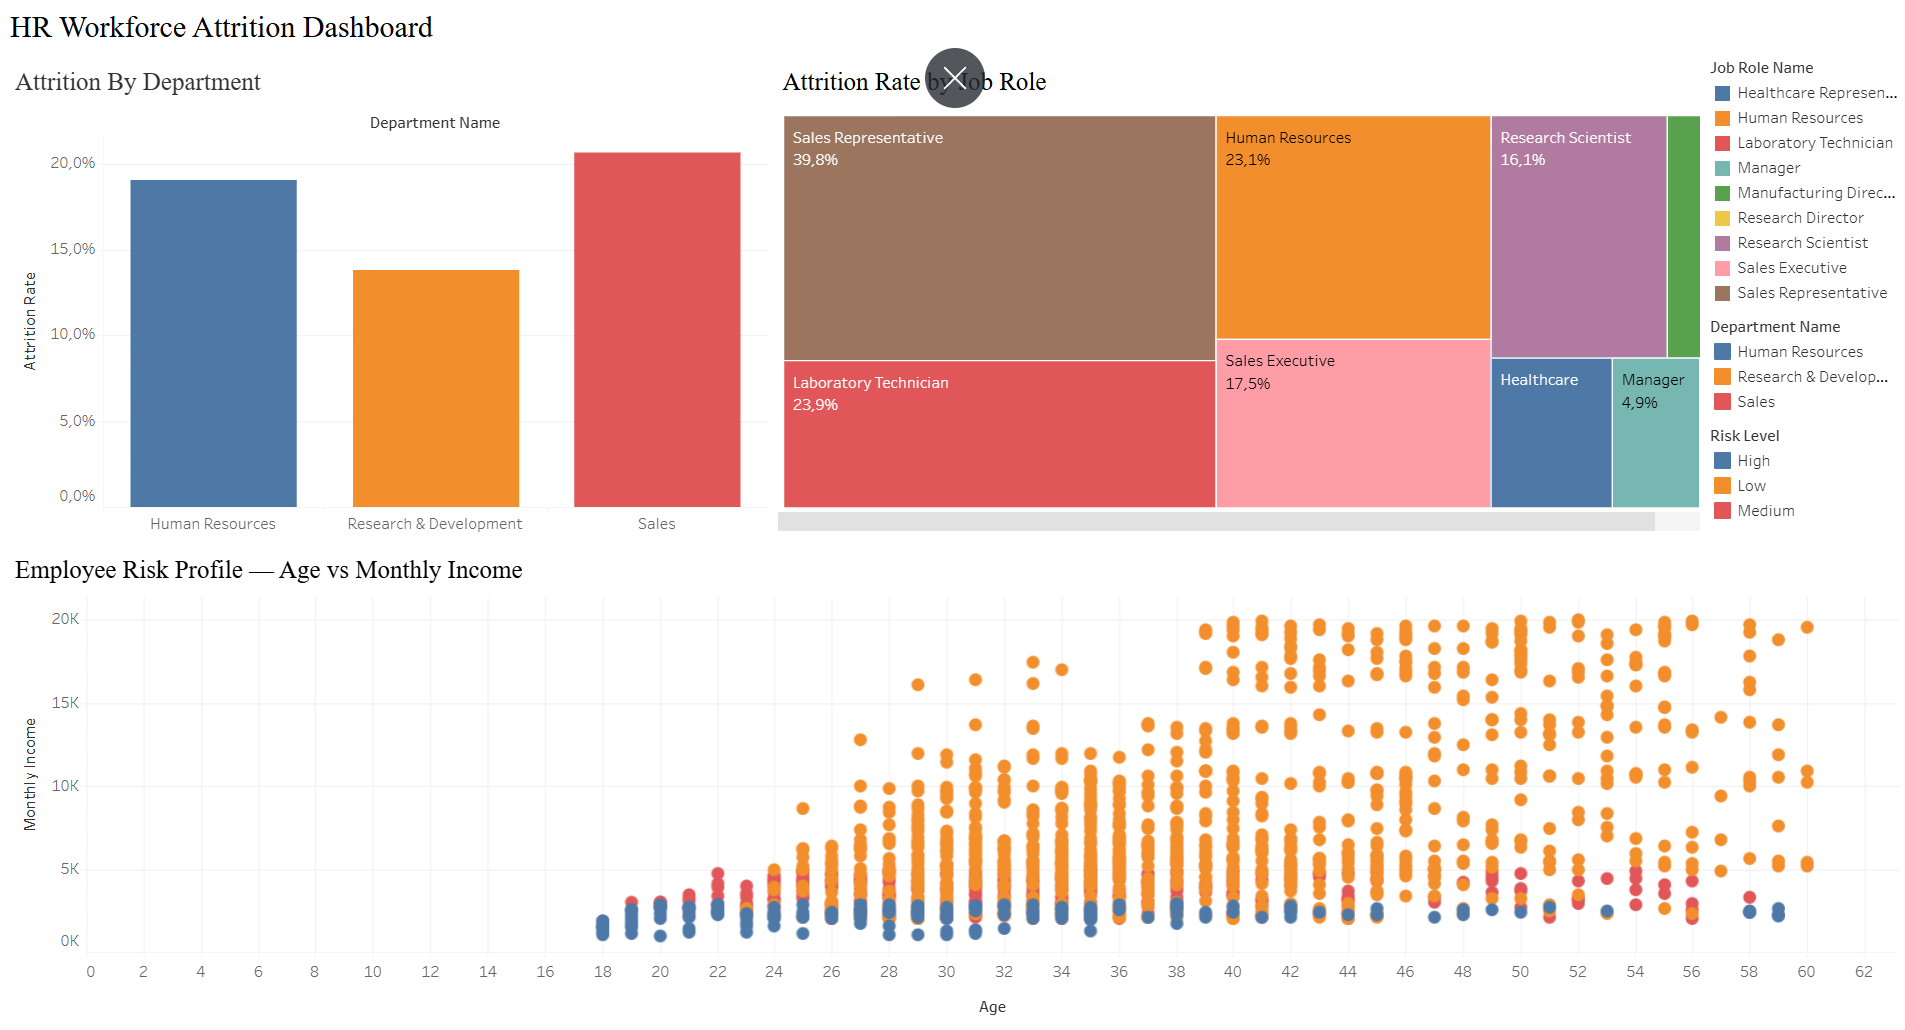

Layout of this report page (visuals, bound fields, positions):
{"tool":"tableau","page":{"name":"HR Attrition Dashboard","canvas":[1000,1000],"units":"permille","ordinal":0},"visuals":[{"type":"title","box":[4.8,9.4,990.3,54.1]},{"type":"worksheet","title":"Attrtition By Department","mark":"Bar","rows":["AttritionFlag"],"cols":["DepartmentName"],"box":[4.8,63.5,403.7,463.6]},{"type":"worksheet","title":"Attrition By Job Role","mark":"Square","box":[408.6,63.5,490,463.6]},{"type":"legend","title":"Attrition By Job Role","param":"[federated.135qwo6134gkr01gjaon00giuffh].[none:JobRoleName:nk]","box":[898.6,63.5,96.6,245]},{"type":"legend","title":"Attrtition By Department","param":"[federated.135qwo6134gkr01gjaon00giuffh].[none:DepartmentName:nk]","box":[898.6,308.4,96.6,109.3]},{"type":"legend","title":"Risk Profile","param":"[federated.135qwo6134gkr01gjaon00giuffh].[none:RiskLevel:nk]","box":[898.6,417.7,96.6,109.3]},{"type":"worksheet","title":"Risk Profile","mark":"Circle","rows":["MonthlyIncome"],"cols":["Age"],"box":[4.8,527,990.3,463.6]}]}

Visuals, with their boxes on the dashboard's canvas, which has no fixed pixel size, in thousandths of its width and height (x1, y1, x2, y2). These are canvas units, not pixel positions in the 1905x1030 screenshot, which may show the page scaled, cropped or inside an application window:
title: bbox(5, 9, 995, 64)
"Attrtition By Department" worksheet (Bar marks): bbox(5, 64, 408, 527)
"Attrition By Job Role" worksheet (Square marks): bbox(409, 64, 899, 527)
"Attrition By Job Role" legend: bbox(899, 64, 995, 308)
"Attrtition By Department" legend: bbox(899, 308, 995, 418)
"Risk Profile" legend: bbox(899, 418, 995, 527)
"Risk Profile" worksheet (Circle marks): bbox(5, 527, 995, 991)
